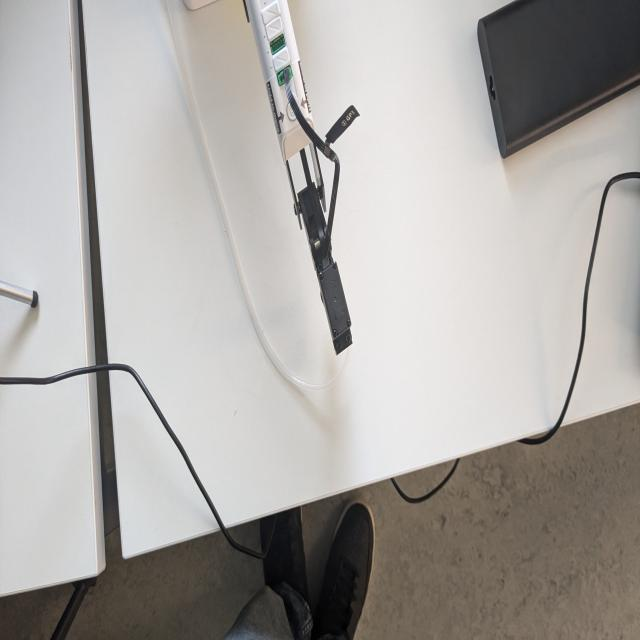Robot-end-effector-HF8z: (315, 258, 355, 357)
